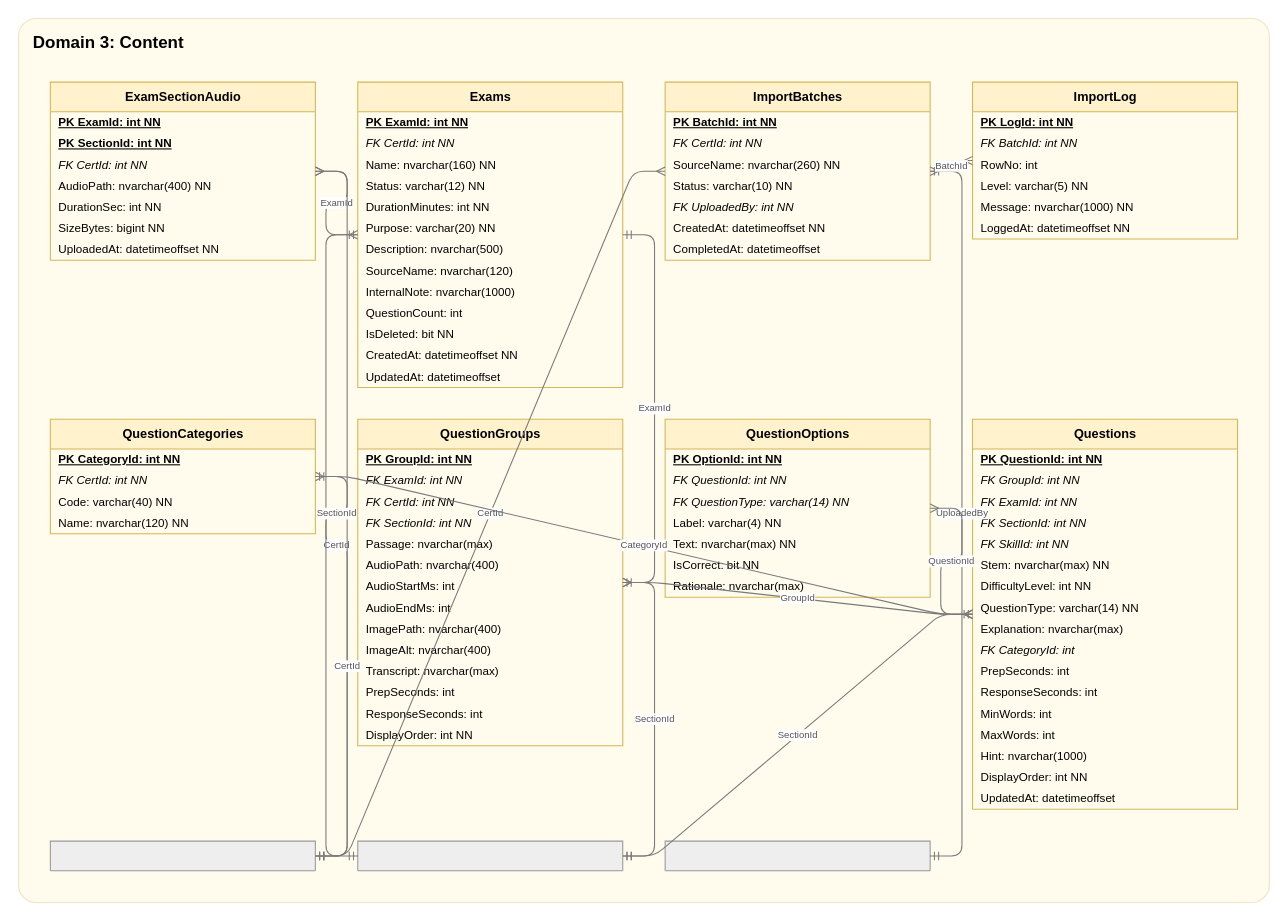
Some shapes in this 1288 by 921 pixel diagram are drawn without their labels. Here are the shapes that lost their labels. From the top down, the centre of each, then its label:
At [182,855]: "Certificates".
At [490,855]: "Sections".
At [797,855]: "Users".
